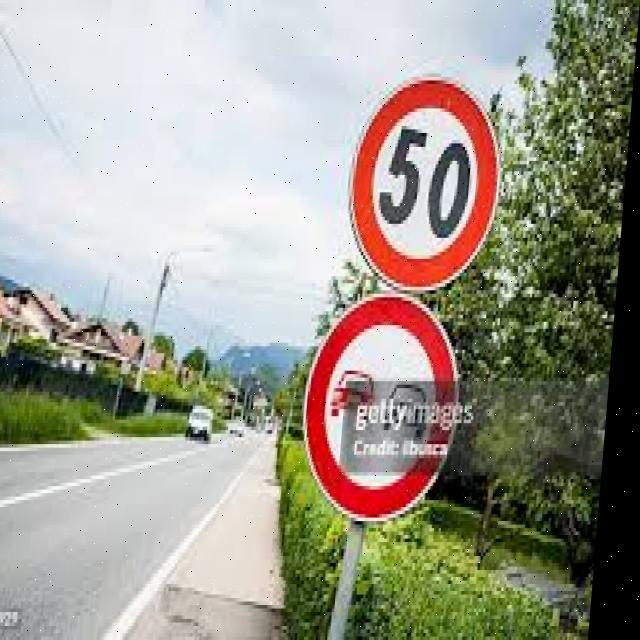Speed limit 50: (343, 71, 511, 291)
